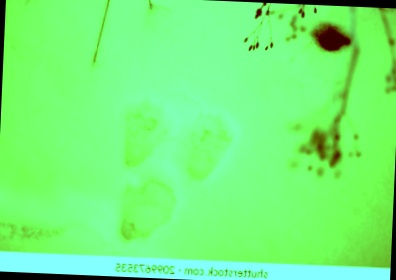lapin: (174, 104, 240, 185), (114, 173, 178, 250), (113, 93, 172, 172)
